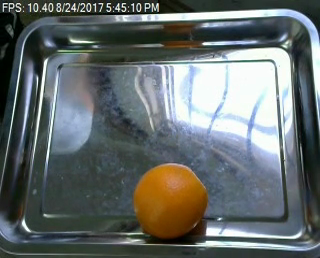Orange: (131, 163, 209, 237)
